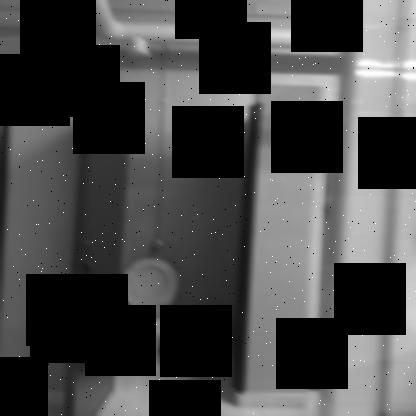Porte: (63, 62, 266, 415)
